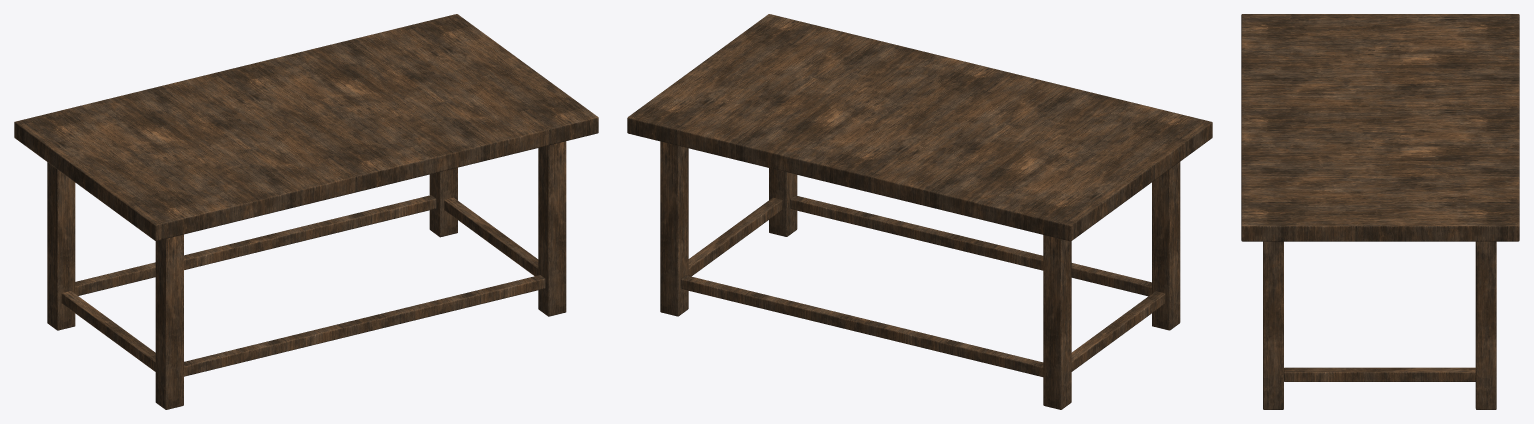
File: Table.glb
3 views of the same model, side by side, from view 1: azimuth 30°, elevation 25°; view 2: azimuth 150°, elevation 25°; view 3: azimuth 270°, elevation 25° (orthographic). The views are drawn at different scales.
Parts seen in each view (by area): view 1: Table; view 2: Table; view 3: Table.
Boxes of the visible parts, x1,y1,x2,y2 form: Table: (14, 14, 598, 409); Table: (627, 14, 1212, 409); Table: (1241, 14, 1519, 409).
Size of the model in its own units: 3.19 by 1.36 by 1.77.
Materials: 1 (1 with a texture image).
